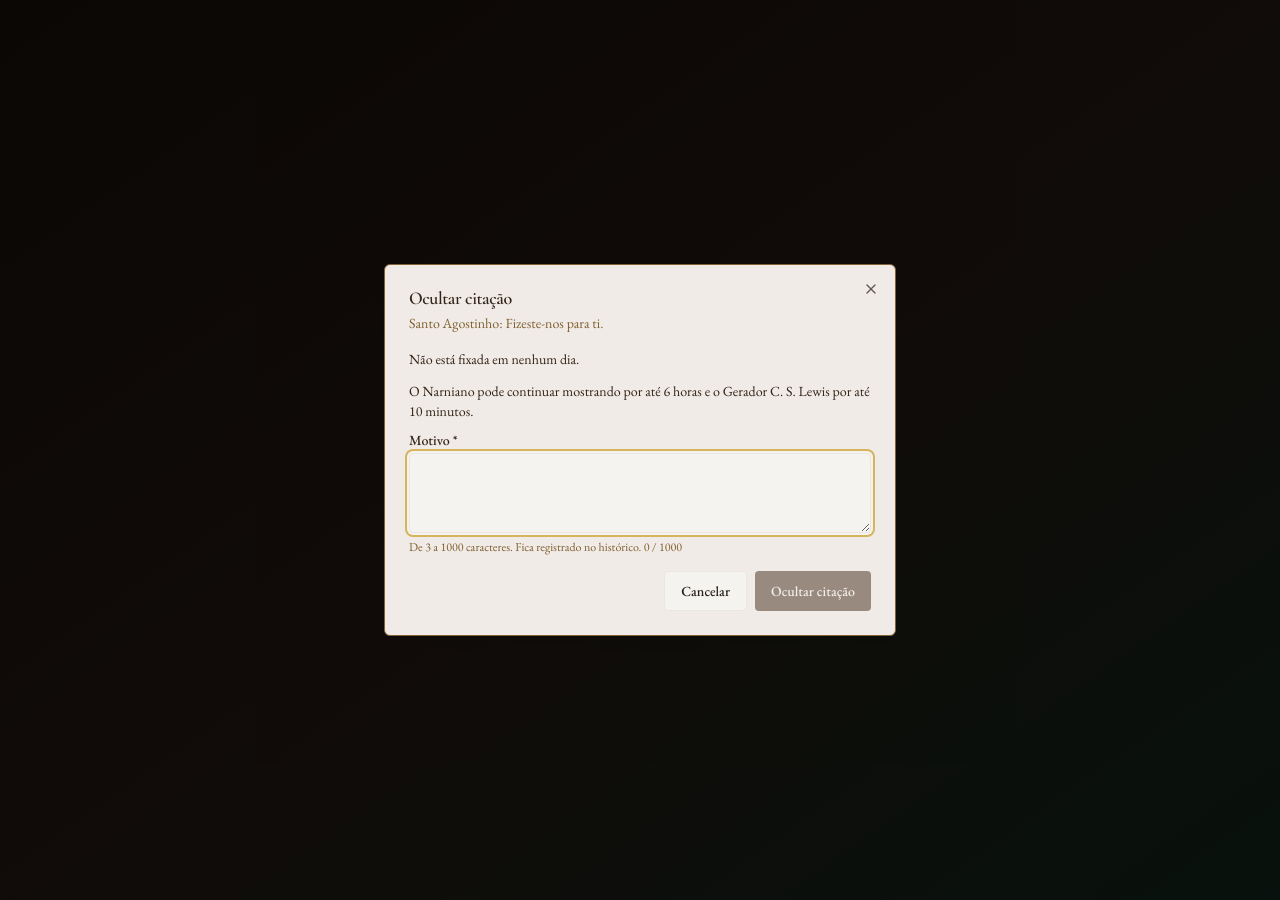
Scenario: OcultarDialog › motivo curto mantém o botão desabilitado
Expected: the button "Ocultar citação" is disabled, [755, 571, 871, 611]
Type "ab" into the text box labelled "Motivo *" at (640, 493), box [409, 453, 871, 533]
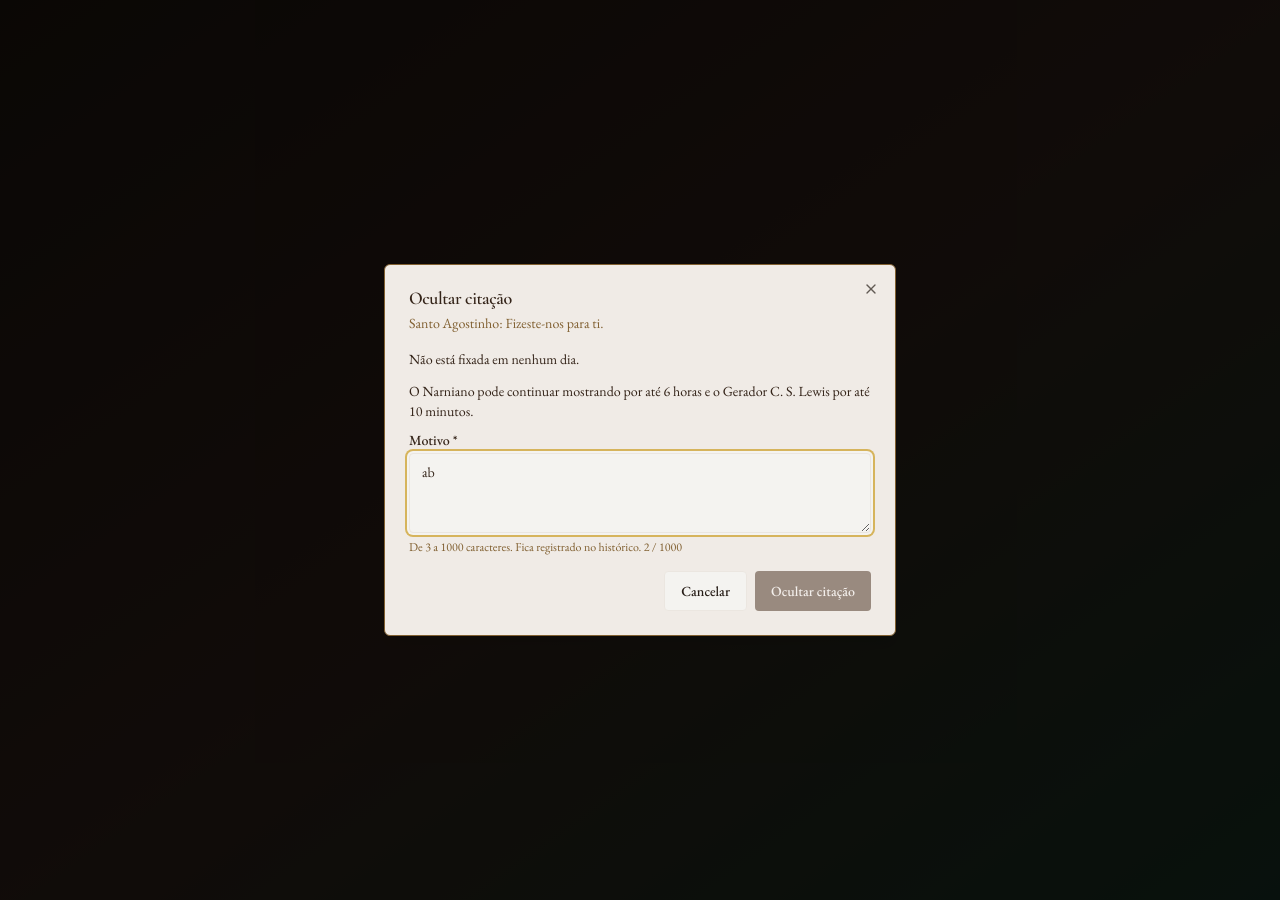
Expected: the button "Ocultar citação" is disabled, [755, 571, 871, 611]
Type "c" into the text box labelled "Motivo *" at (640, 493), box [409, 453, 871, 533]
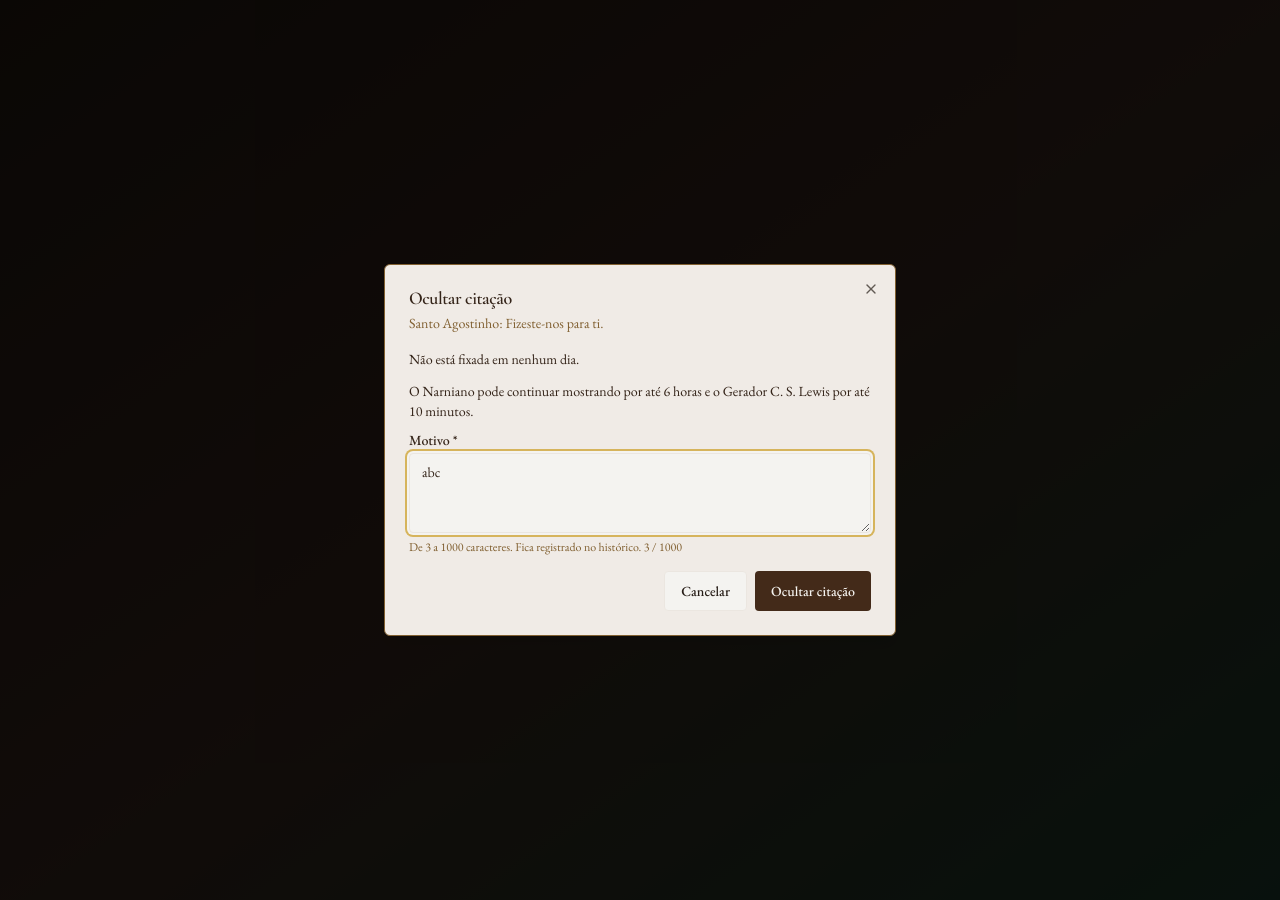
Now the button "Ocultar citação" is enabled, box [755, 571, 871, 611]
